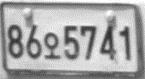1: (118, 25, 132, 60)
4: (98, 24, 117, 60)
5: (63, 24, 80, 59)
6: (25, 24, 42, 59)
7: (80, 24, 97, 60)
8: (6, 24, 24, 58)
오: (43, 31, 61, 60)
